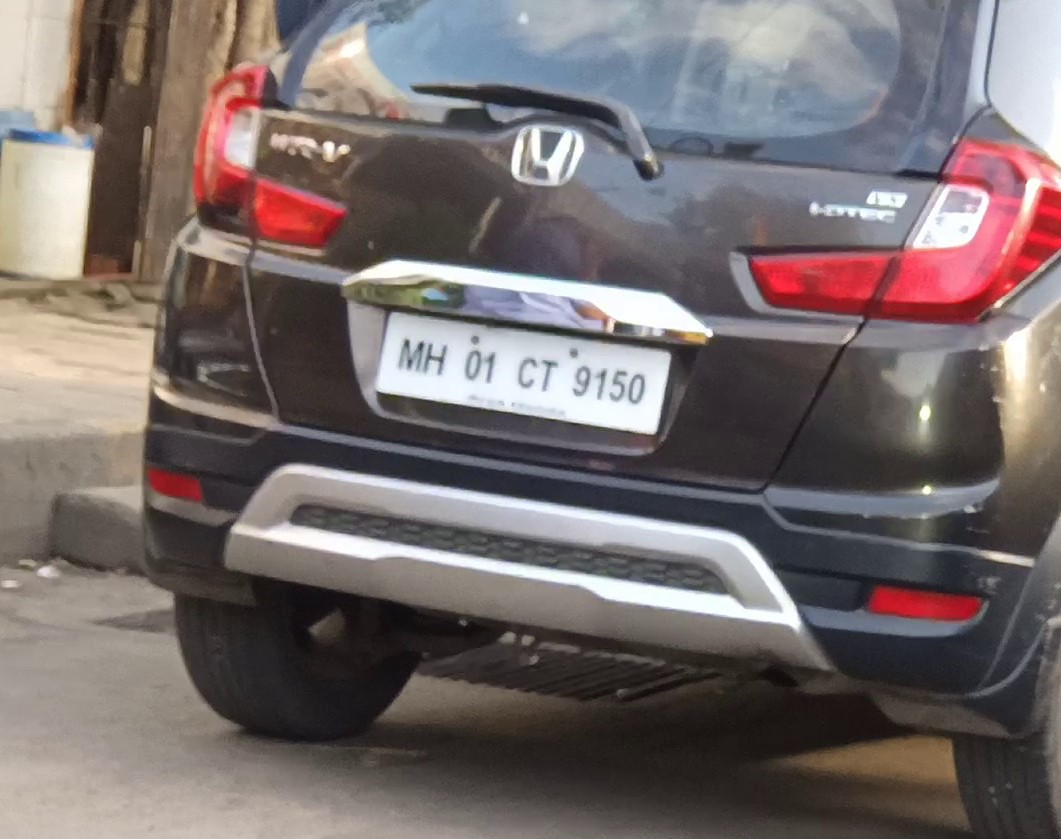MH01CT9150: (372, 310, 671, 435)
